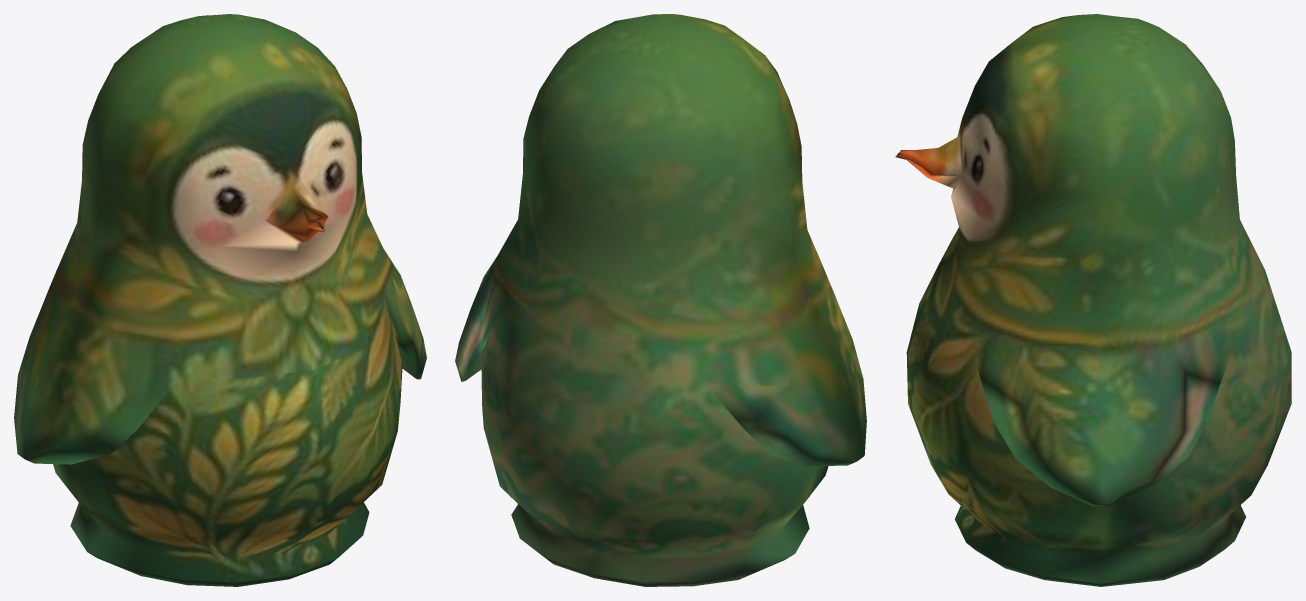
The model's file is penguin-06-14-green-leaf-penguin-doll.gltf.
The picture shows the model from 3 angles, left to right: view 1: azimuth 30°, elevation 25°; view 2: azimuth 150°, elevation 25°; view 3: azimuth 270°, elevation 25°; orthographic projection.
Visible parts, largest first — view 1: penguin-06-14-green-leaf-penguin-doll; view 2: penguin-06-14-green-leaf-penguin-doll; view 3: penguin-06-14-green-leaf-penguin-doll.
Boxes of the visible parts, x1,y1,x2,y2 form: penguin-06-14-green-leaf-penguin-doll: [14, 14, 426, 586]; penguin-06-14-green-leaf-penguin-doll: [455, 14, 866, 586]; penguin-06-14-green-leaf-penguin-doll: [895, 14, 1291, 586].
Size of the model in its own units: 0.2 by 0.2478 by 0.1726.
1 material, 1 textured.
